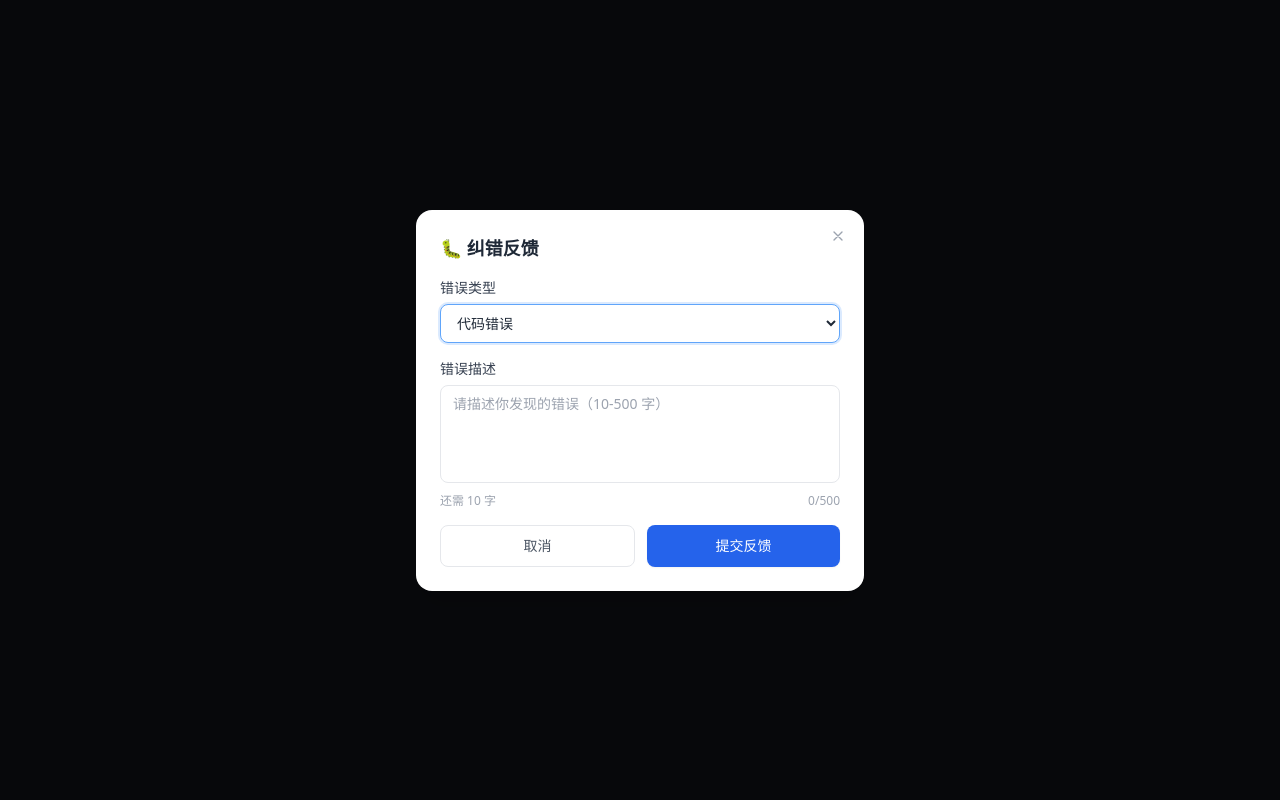
Test case: FeedbackModal › 提交失败时显示错误 toast
Type "这个代码示例中有一个 off-by-one 错误" into the text box labelled "错误描述" at point(640, 434), box [440, 384, 840, 482]
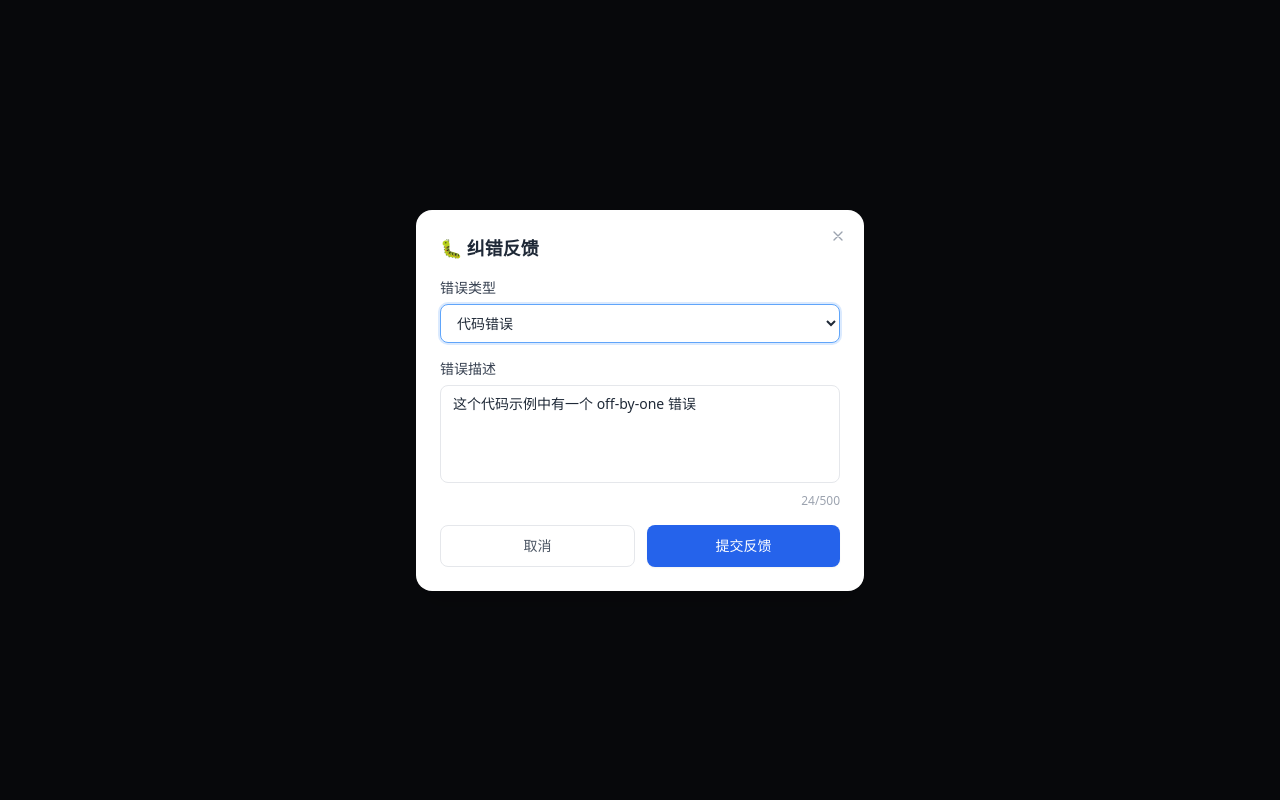
Click the button "提交反馈" at point(744, 546), box [647, 524, 840, 566]
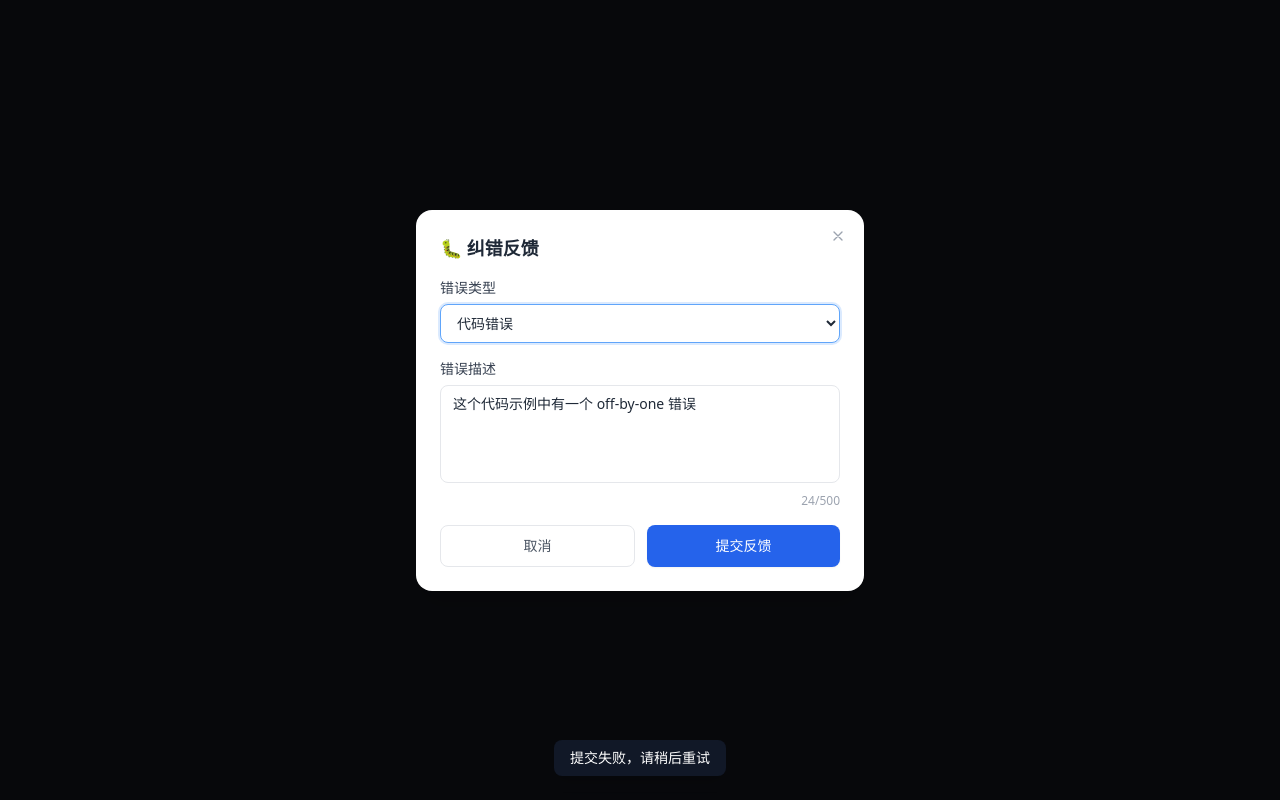
Check: the text "提交失败，请稍后重试" is shown, box [554, 740, 726, 776]
